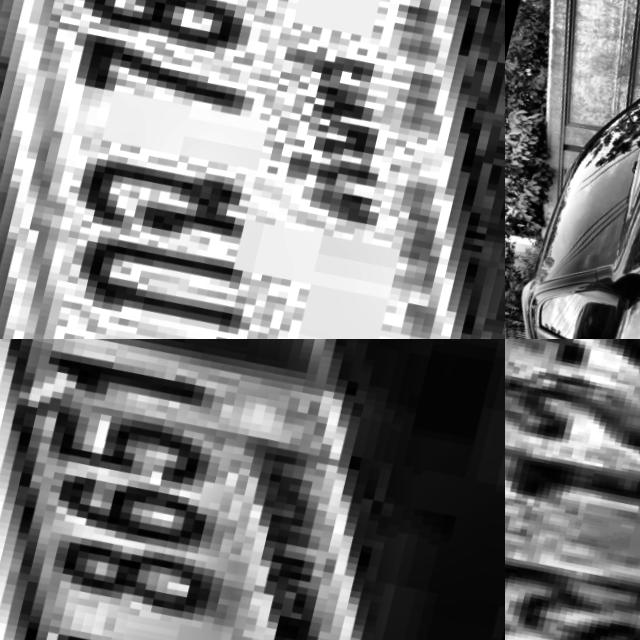license-plate: (0, 0, 505, 339), (0, 339, 505, 640), (505, 339, 640, 640)
